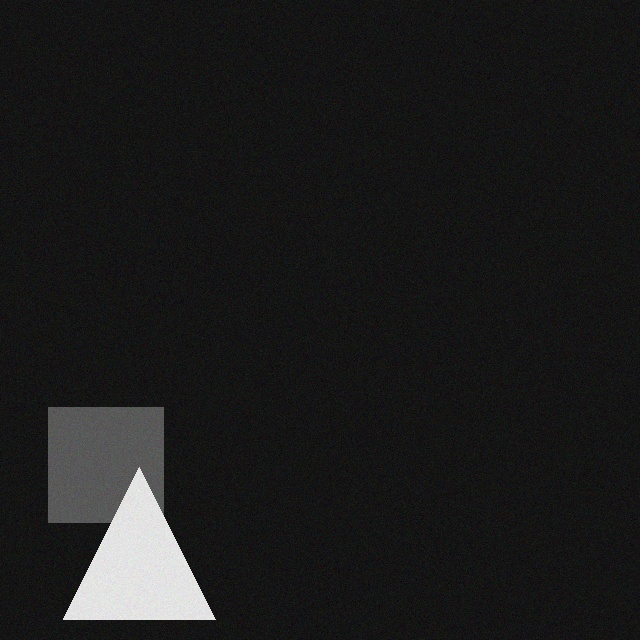square: (62, 402, 177, 517)
triangle: (77, 462, 229, 614)
